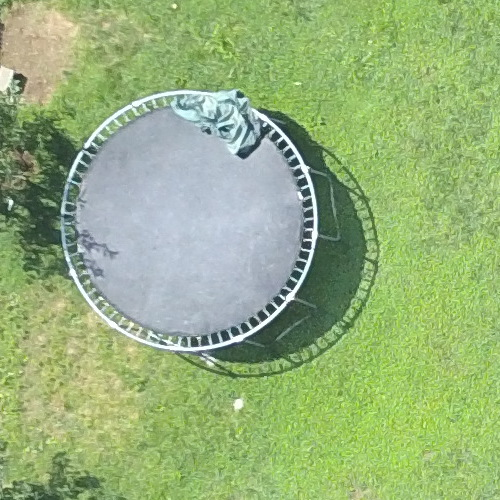trampoline: (9, 45, 335, 389)
